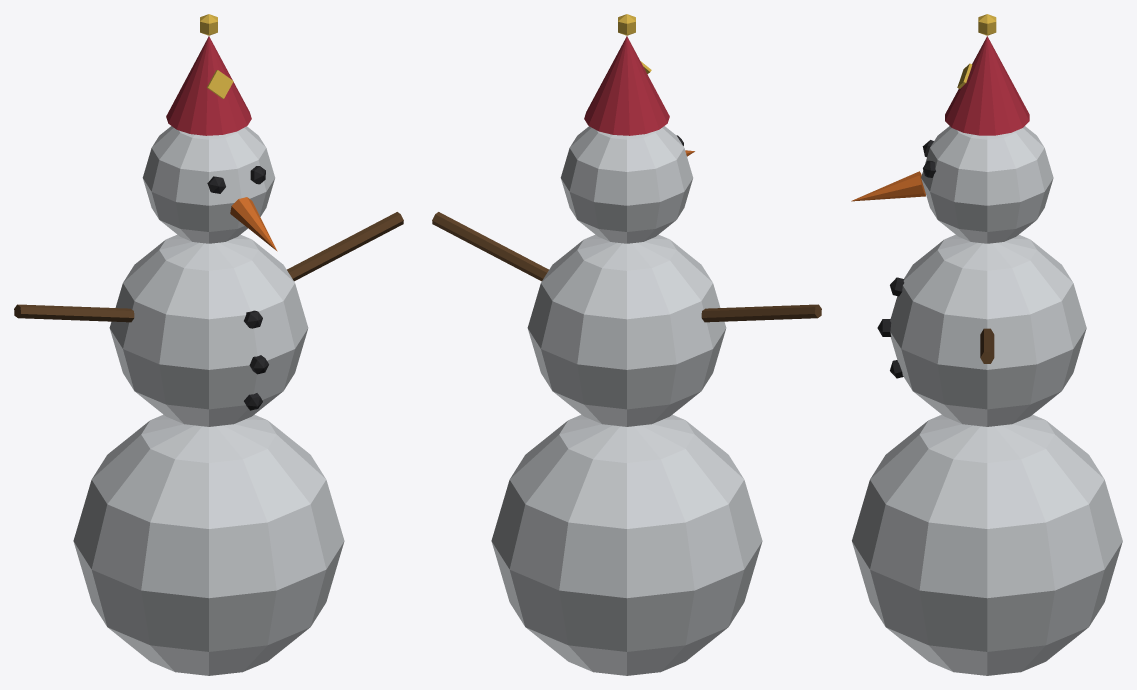
Rendered from snowman.glb.
The picture shows the model from 3 angles, left to right: view 1: azimuth 30°, elevation 25°; view 2: azimuth 150°, elevation 25°; view 3: azimuth 270°, elevation 25°; orthographic projection.
Visible parts, largest first — view 1: base, body, head, hat, left_arm, right_arm, nose; view 2: base, body, head, hat, left_arm, right_arm; view 3: base, body, head, hat, nose, left_arm.
Part boxes in pixels (x1=…): base: x1=73, y1=414, x2=344, y2=675; body: x1=109, y1=234, x2=308, y2=426; head: x1=142, y1=126, x2=275, y2=243; hat: x1=166, y1=36, x2=251, y2=135; left_arm: x1=287, y1=212, x2=403, y2=281; right_arm: x1=14, y1=304, x2=134, y2=322; nose: x1=230, y1=197, x2=277, y2=251; base: x1=491, y1=414, x2=762, y2=675; body: x1=527, y1=234, x2=726, y2=426; head: x1=560, y1=126, x2=693, y2=243; hat: x1=584, y1=36, x2=669, y2=135; left_arm: x1=432, y1=212, x2=548, y2=281; right_arm: x1=701, y1=304, x2=821, y2=322; base: x1=852, y1=414, x2=1122, y2=675; body: x1=890, y1=234, x2=1086, y2=426; head: x1=921, y1=126, x2=1053, y2=243; hat: x1=945, y1=36, x2=1029, y2=135; nose: x1=851, y1=171, x2=925, y2=201; left_arm: x1=980, y1=328, x2=994, y2=363.
Size of the model in its own units: 1.48 by 2.38 by 0.9056.
